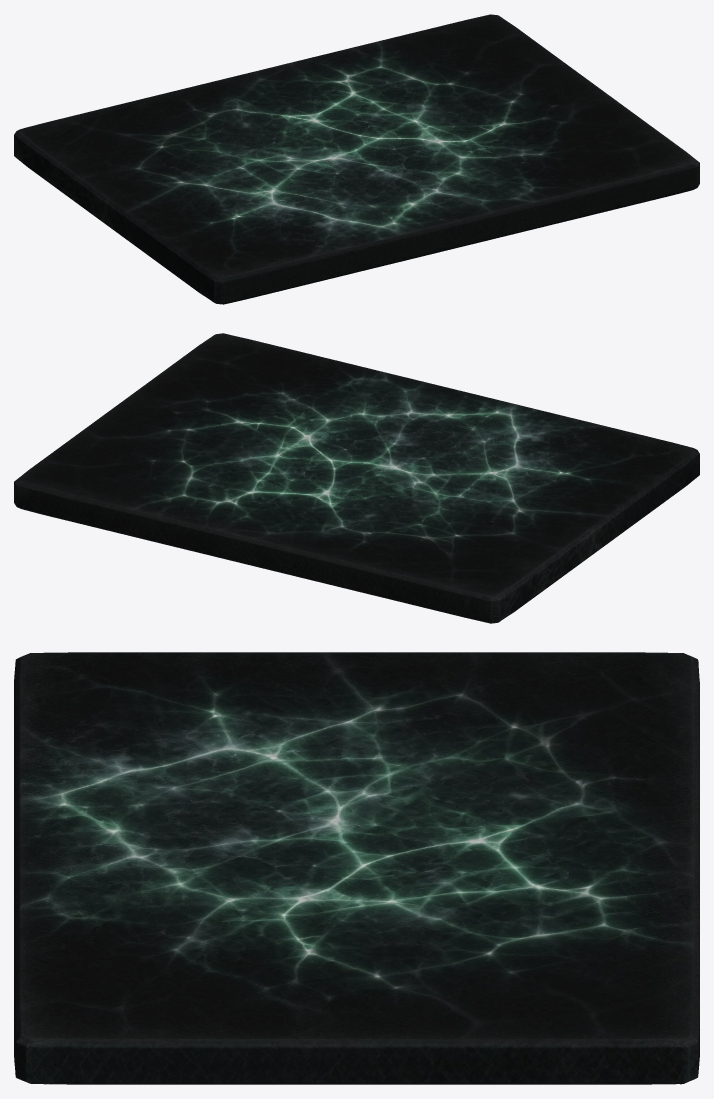
Rendered from frozen-opt.glb.
The picture shows the model from 3 angles, top to bottom: view 1: azimuth 30°, elevation 25°; view 2: azimuth 150°, elevation 25°; view 3: azimuth 270°, elevation 25°; orthographic projection. The views are drawn at different scales.
Parts seen in each view (by area): view 1: mesh_node; view 2: mesh_node; view 3: mesh_node.
Boxes of the visible parts, <box> form: mesh_node: <box>14,14,699,304</box>; mesh_node: <box>14,333,699,623</box>; mesh_node: <box>14,652,699,1084</box>.
Size of the model in its own units: 1.9 by 0.1025 by 1.4.
Materials: 1 (1 with a texture image).
